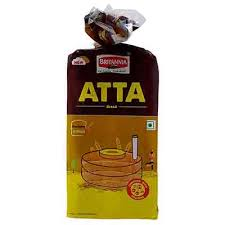bread: (60, 8, 161, 222)
